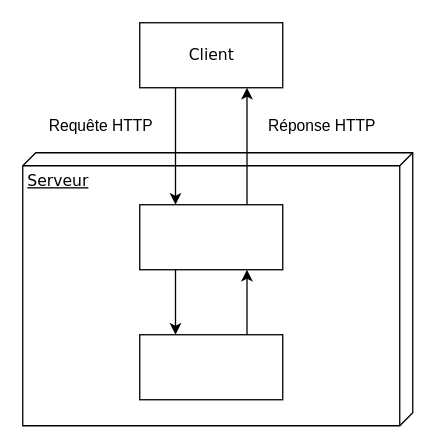
The diagram is 435 pixels wide and 448 high, and some of its shapes have lost their labels. The centre of each missing label's shape, as x and y in pixels:
"Application" goes at pixel 210 236.
"Base de données" goes at pixel 210 366.
